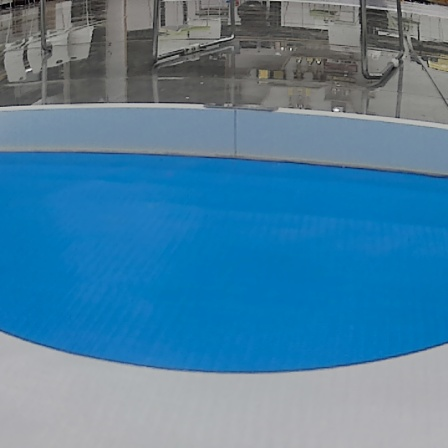blue_base: (1, 152, 448, 374)
